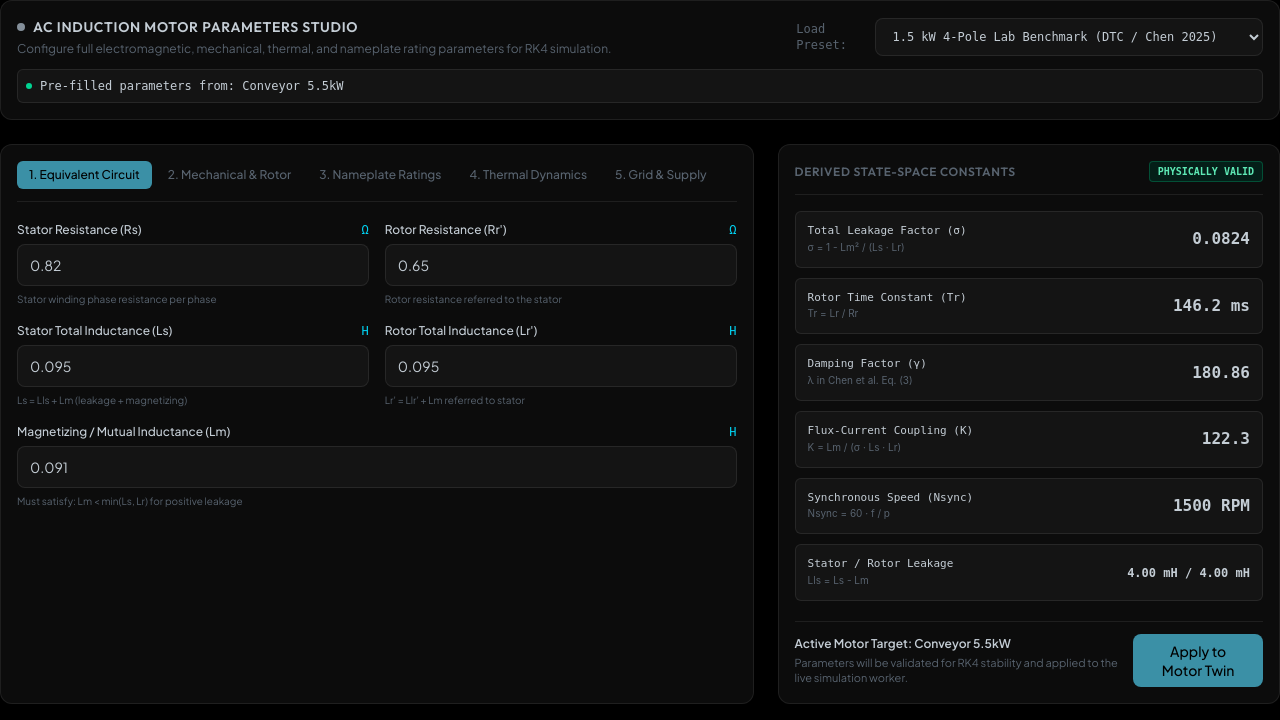
Scenario: MotorParamsStudio › pre-fills from currentMotor params_json and applies to backend
Expected: the text "Active Motor Target: Conveyor 5.5kW" is shown, [795,636,1011,651]
Click the button "Apply to Motor Twin" at x=1198, y=661, box [1133,634,1263,687]
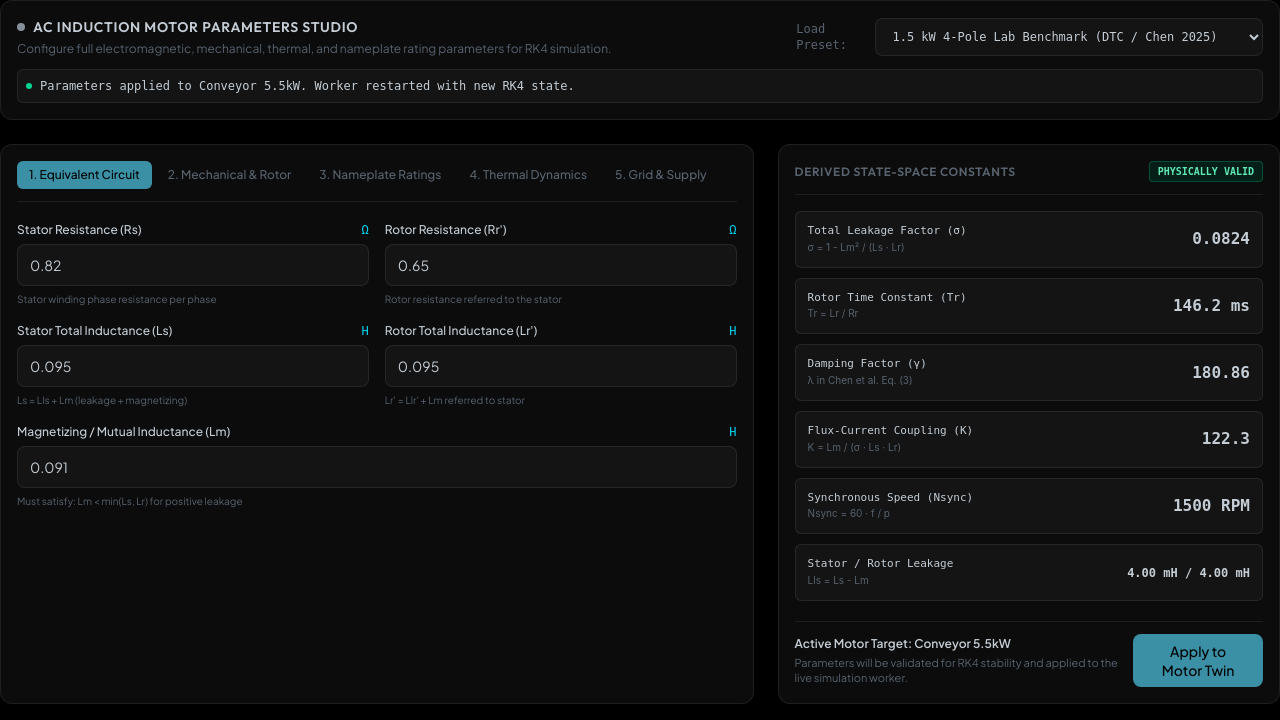
Result: the text "Parameters applied to Conveyor 5.5kW" is shown at [40,79,575,93]
